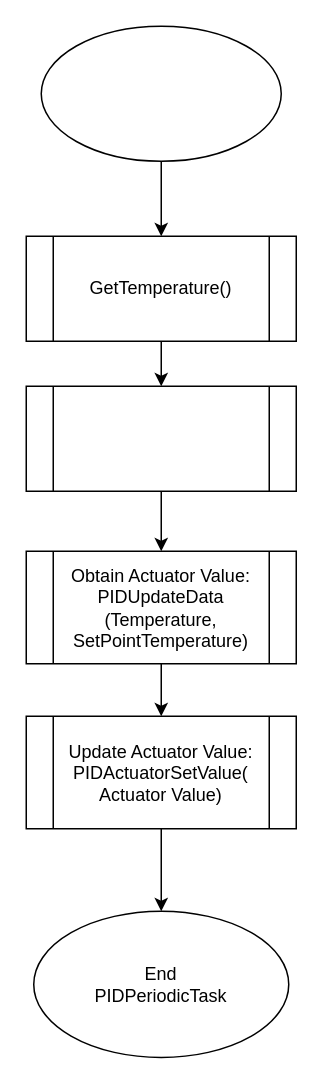
This 323x1085 diagram has some shape labels left out. The shapes that lost their labels are listed below. From the top down, each one's centre as x and y in pixels, then its label:
At point 160,93: "Start PIDPeriodicControlTask".
At point 160,438: "GetSetPointTemperature()".
